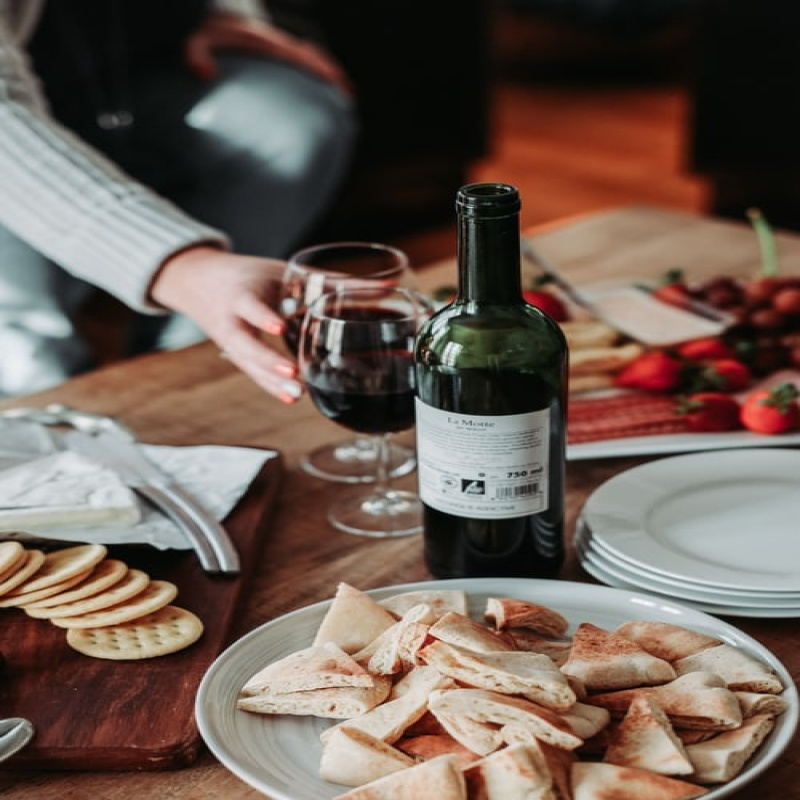wine: (405, 182, 569, 569)
